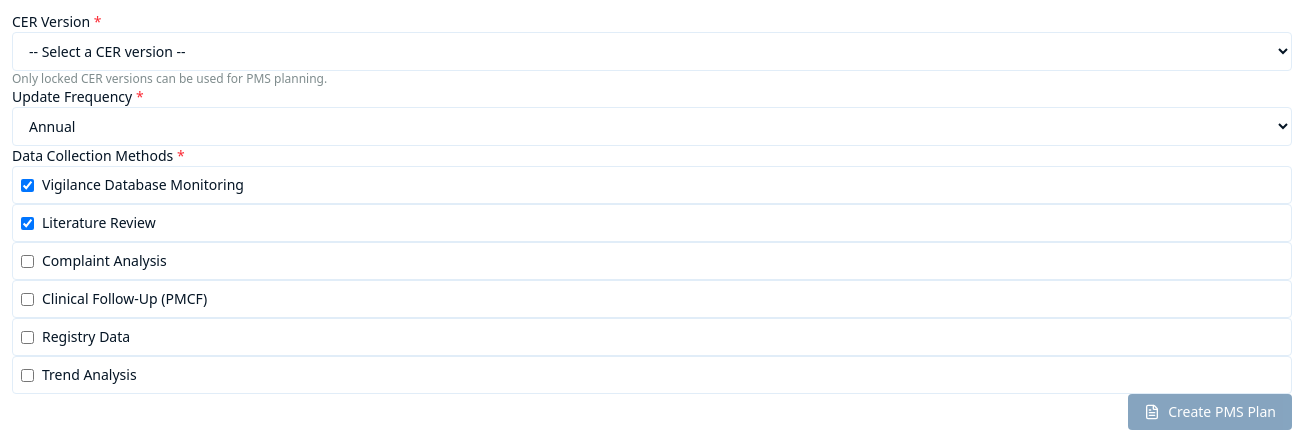
Test case: PmsPlanForm › enables submit button when CER selected
The width and height of the screenshot is (1304, 447).
Select "CER v1 (CE MDR) — LOCKED" in the dropdown with test id "cer-version-select" at (652,52), box [12,32,1292,71]
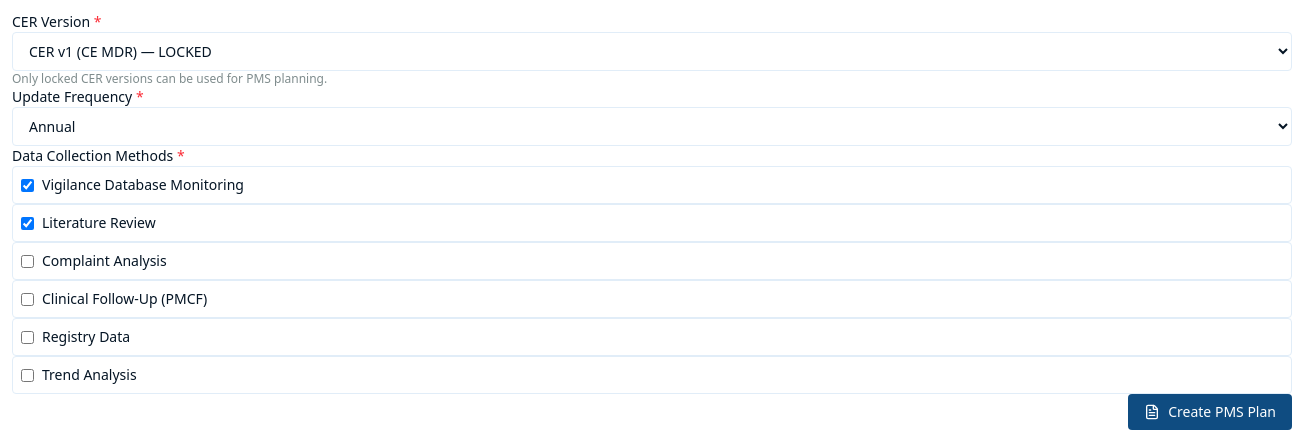
Result: the button with test id "submit-btn" is enabled at [1128,394,1292,430]
